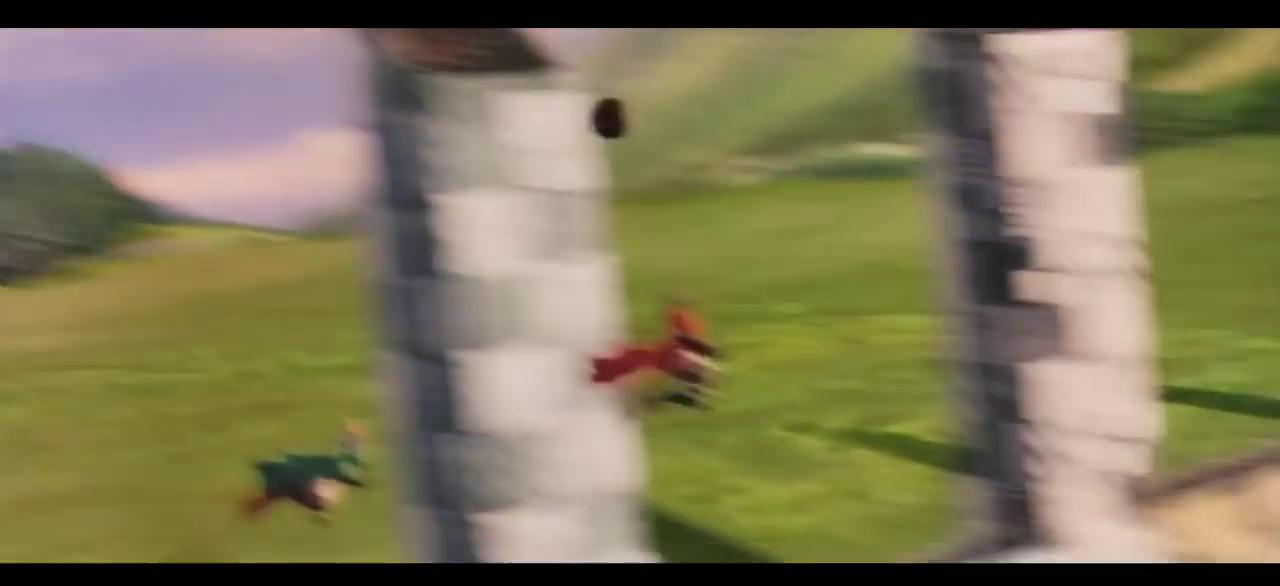quaffle: (590, 93, 630, 139)
